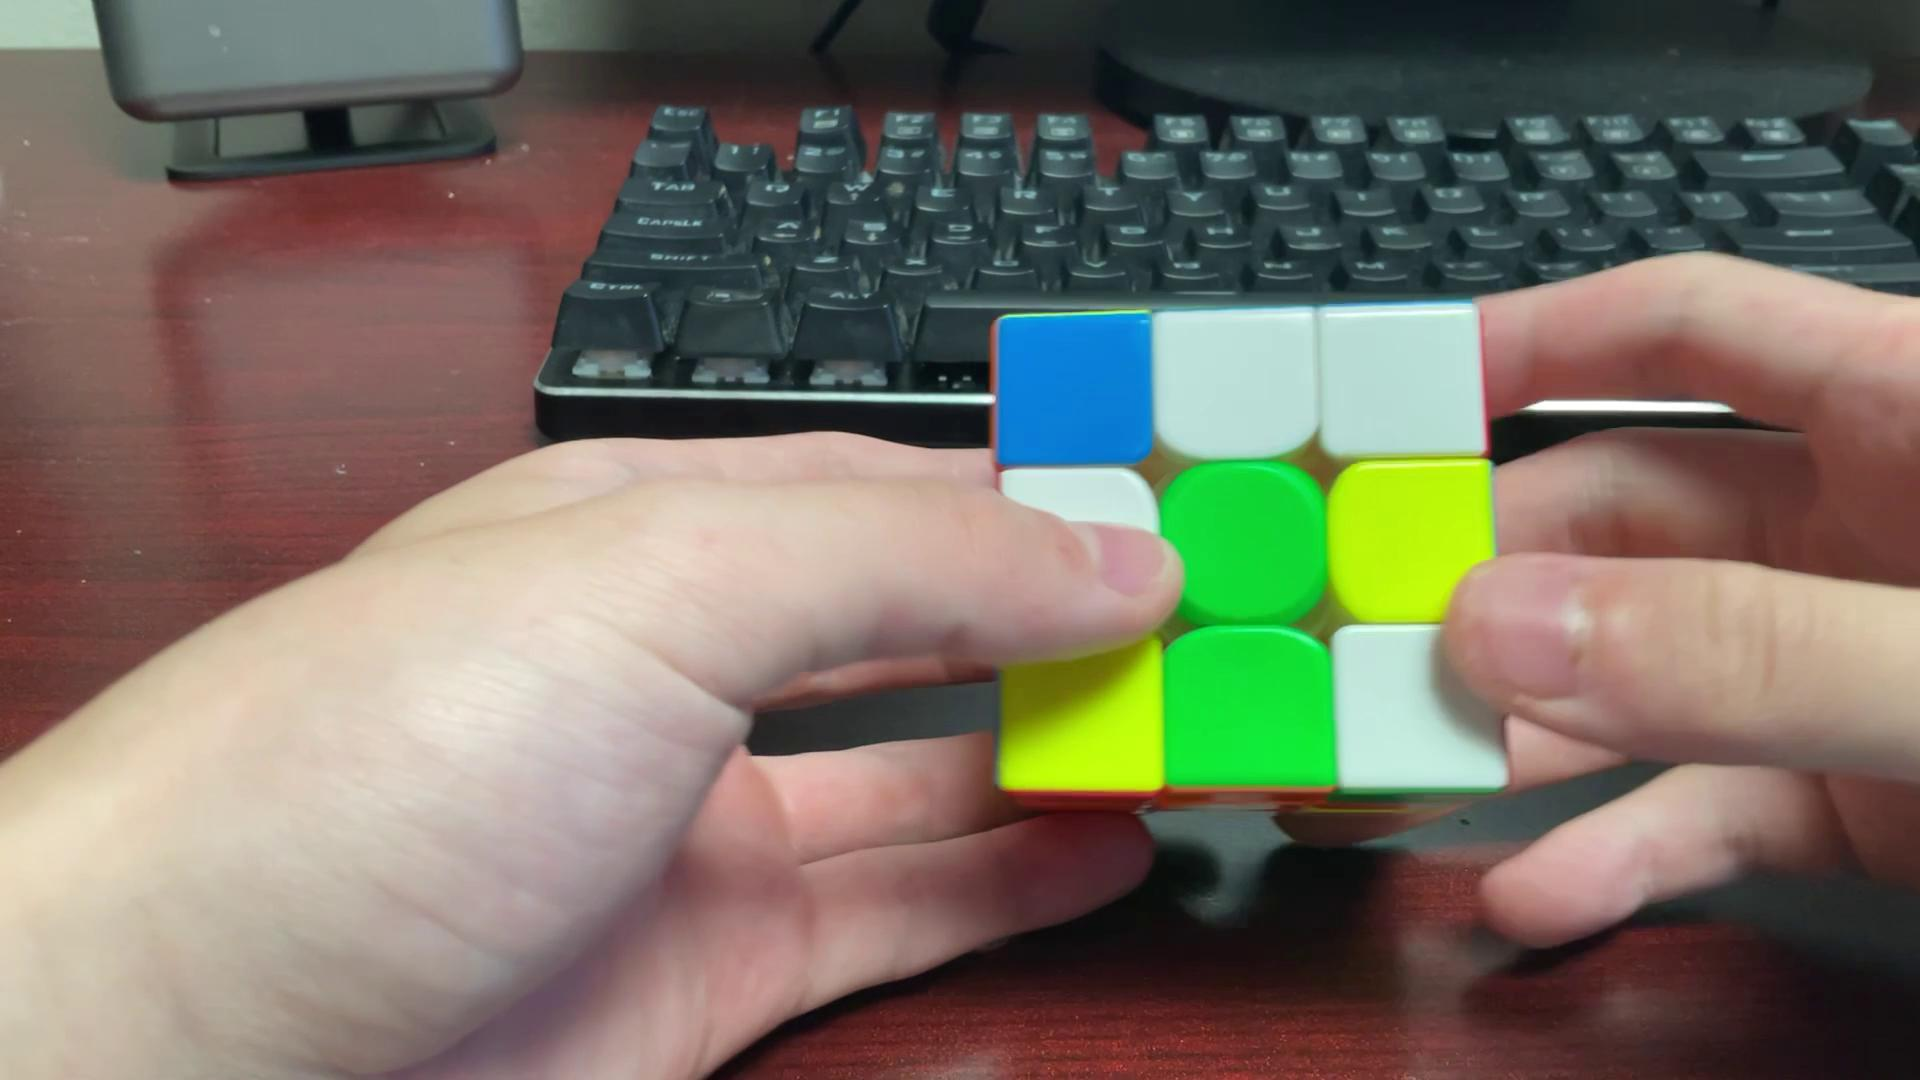Rubiks-Cube: (978, 290, 1509, 840)
